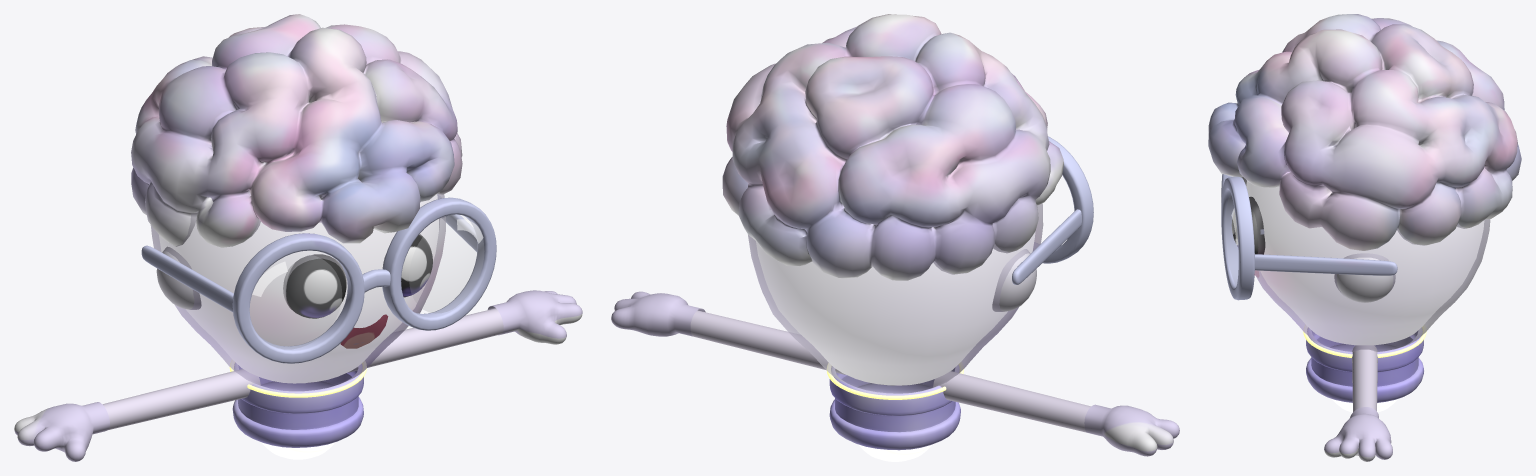
Rendered from original.glb.
3 views of the same model, side by side, from view 1: azimuth 30°, elevation 25°; view 2: azimuth 150°, elevation 25°; view 3: azimuth 270°, elevation 25° (orthographic). The views are drawn at different scales.
Visible parts, largest first — view 1: polySurface1.002, polySurface1.003, polySurface1, polySurface1.004, acey_arms, polySurface1.007, acey_lens_right, acey_lens_left, polySurface1.005, polySurface1.006, acey_bulb_glow_line, acey_bulb_tip_glow; view 2: polySurface1.002, polySurface1.003, polySurface1, acey_arms, polySurface1.007, polySurface1.004, acey_bulb_glow_line, acey_bulb_tip_glow; view 3: polySurface1.002, polySurface1.003, polySurface1, polySurface1.004, polySurface1.007, acey_arms, acey_lens_left, polySurface1.005, acey_bulb_glow_line.
Part boxes in pixels (x1,y1,x2,y2): polySurface1.002: (131,14,462,247); polySurface1.003: (14,162,582,461); polySurface1: (159,194,438,383); polySurface1.004: (141,194,496,363); acey_arms: (103,308,503,429); polySurface1.007: (232,363,363,447); acey_lens_right: (250,253,341,349); acey_lens_left: (409,214,483,313); polySurface1.005: (283,234,432,318); polySurface1.006: (340,314,388,348); acey_bulb_glow_line: (229,360,366,397); acey_bulb_tip_glow: (261,442,335,459); polySurface1.002: (722,14,1063,280); polySurface1.003: (611,203,1179,456); polySurface1: (756,231,1035,385); acey_arms: (690,310,1090,432); polySurface1.007: (829,365,960,450); polySurface1.004: (1012,136,1093,284); acey_bulb_glow_line: (826,362,963,399); acey_bulb_tip_glow: (858,444,932,461); polySurface1.002: (1208,14,1521,250); polySurface1.003: (1242,177,1490,461); polySurface1: (1246,181,1484,345); polySurface1.004: (1221,174,1397,300); polySurface1.007: (1306,327,1423,402); acey_arms: (1352,345,1377,411); acey_lens_left: (1224,195,1238,285); polySurface1.005: (1231,177,1265,254); acey_bulb_glow_line: (1303,325,1426,357).
Size of the model in its own units: 1.36 by 0.997 by 0.7392.
Materials: 13 (8 with a texture image).
